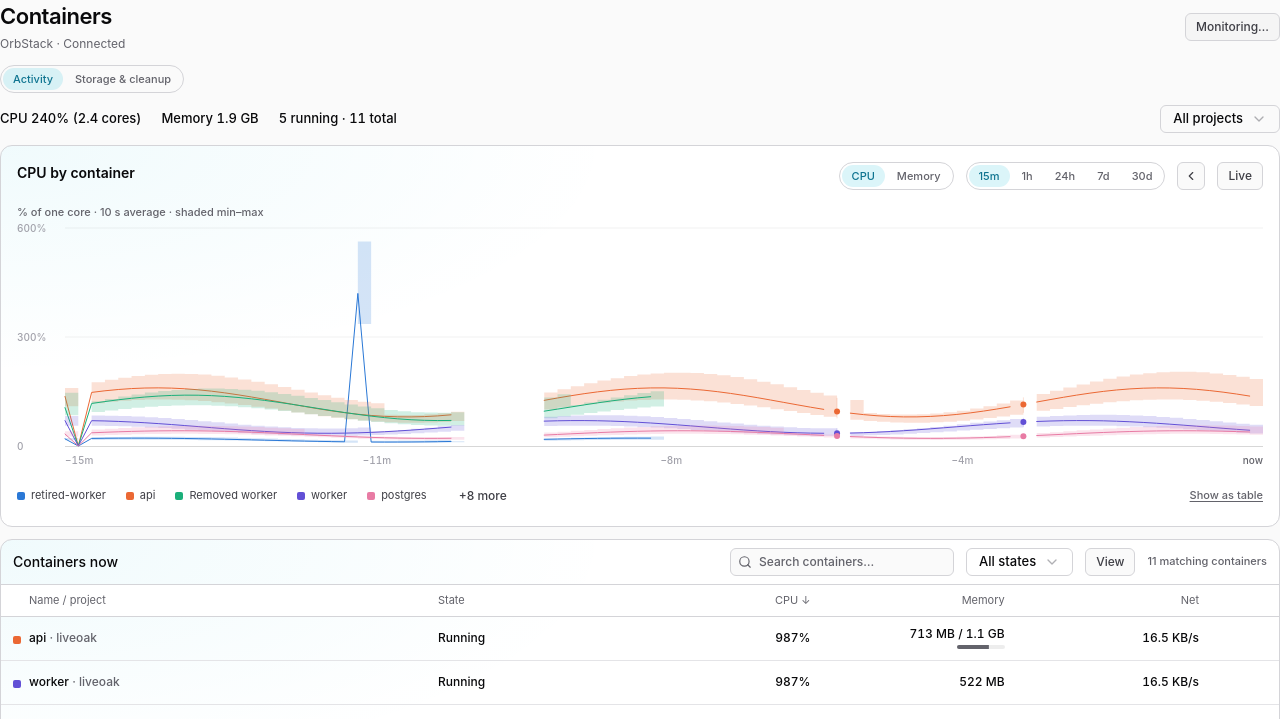
Test: shows current chooser values instead of measurements embedded in retained metadata
The width and height of the screenshot is (1280, 719).
Click the button "+8 more" at coordinates (483, 496), box [449,482,517,510]
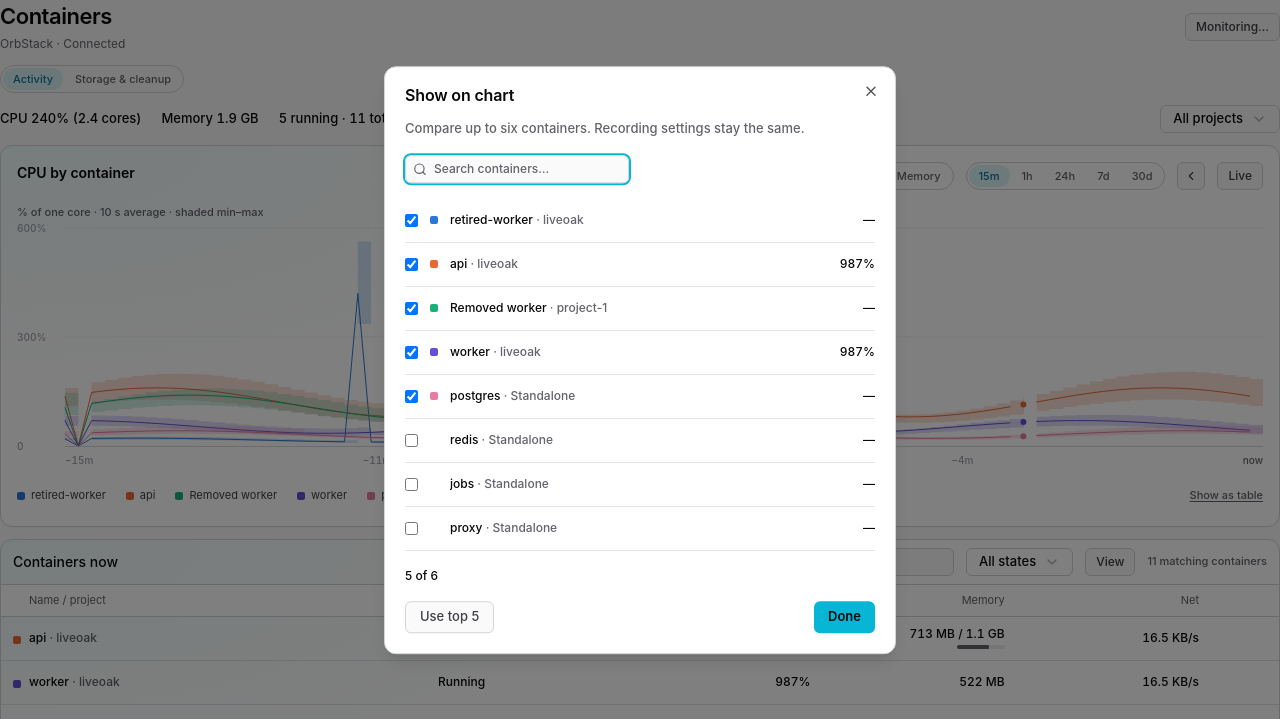
Check: the label named "Chart api" shows "987%", box [840,256,875,271]
Check: the label named "Chart retired-worker" shows "—", box [863,212,875,227]
